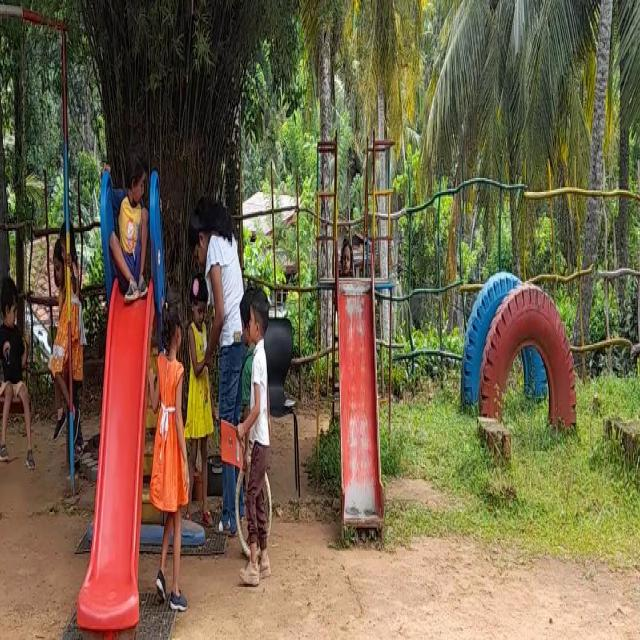adult: (213, 167, 246, 521)
child: (239, 307, 280, 589), (154, 303, 183, 615), (104, 149, 148, 305), (182, 278, 205, 537), (0, 253, 32, 437)
